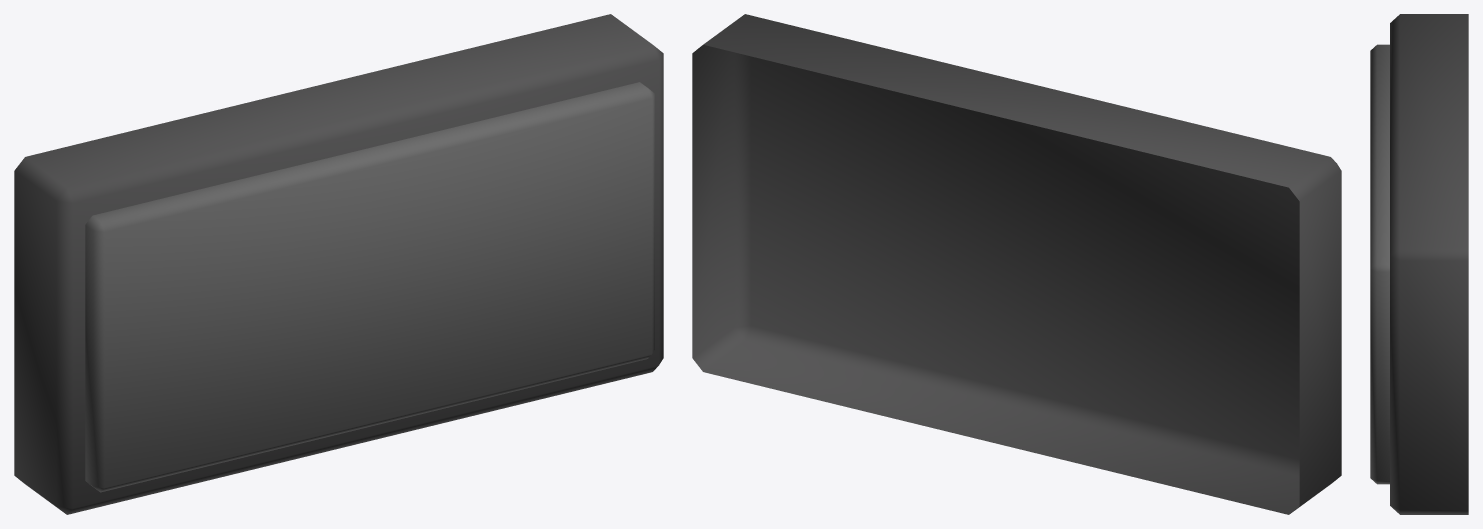
Rendered from ElectricBox_2_D_2.fbx.
3 views of the same model, side by side, from view 1: azimuth 30°, elevation 25°; view 2: azimuth 150°, elevation 25°; view 3: azimuth 270°, elevation 25° (orthographic). The views are drawn at different scales.
Parts seen in each view (by area): view 1: ElectricBox_2_D_2; view 2: ElectricBox_2_D_2; view 3: ElectricBox_2_D_2.
Boxes of the visible parts, x1,y1,x2,y2 form: ElectricBox_2_D_2: (14,14,663,514); ElectricBox_2_D_2: (692,14,1341,514); ElectricBox_2_D_2: (1370,14,1468,514).
Size of the model in its own units: 88.15 by 45.42 by 15.17.
